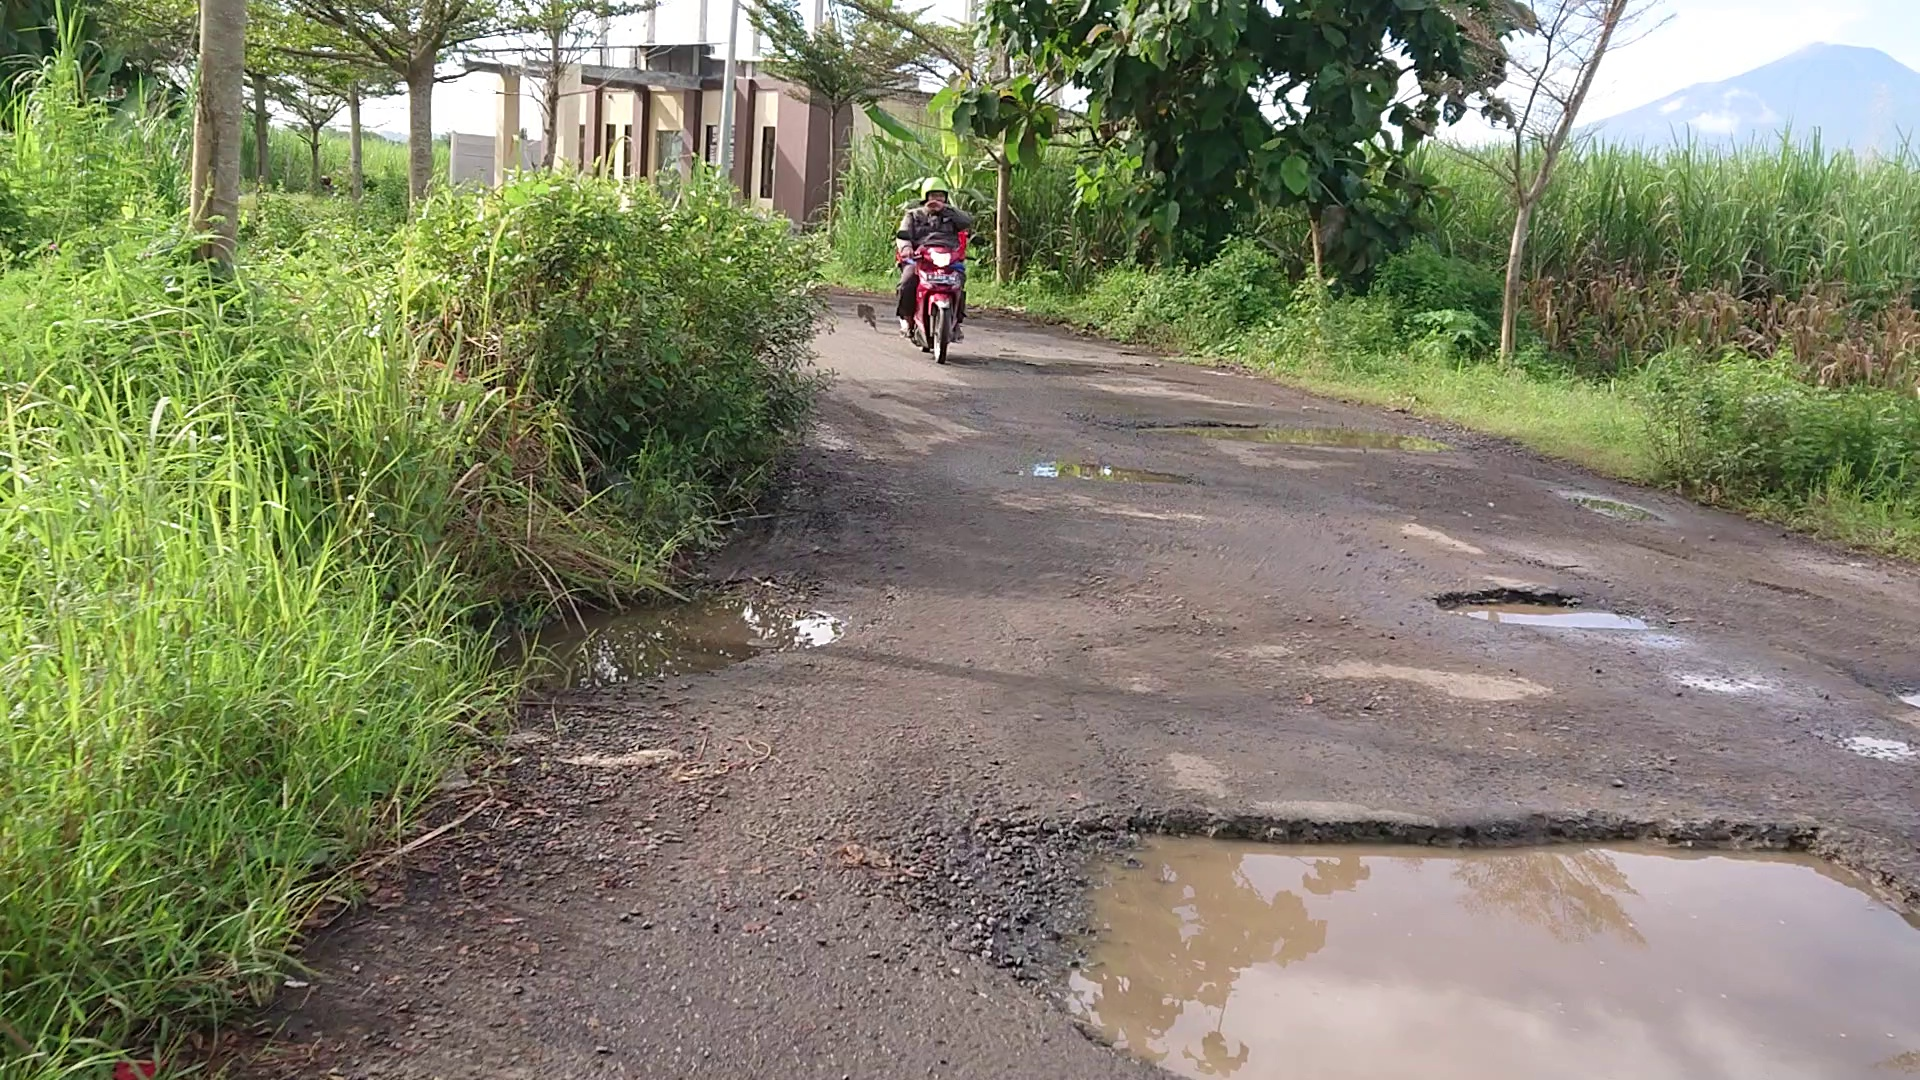Berlubang: (1075, 847, 1920, 1080), (1153, 417, 1408, 458), (1445, 580, 1625, 636)
